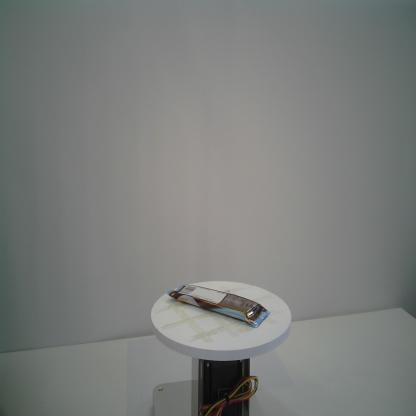Chocolate: (166, 283, 271, 329)
